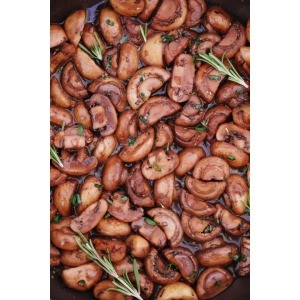mushroom_brain food: (68, 63, 226, 238)
